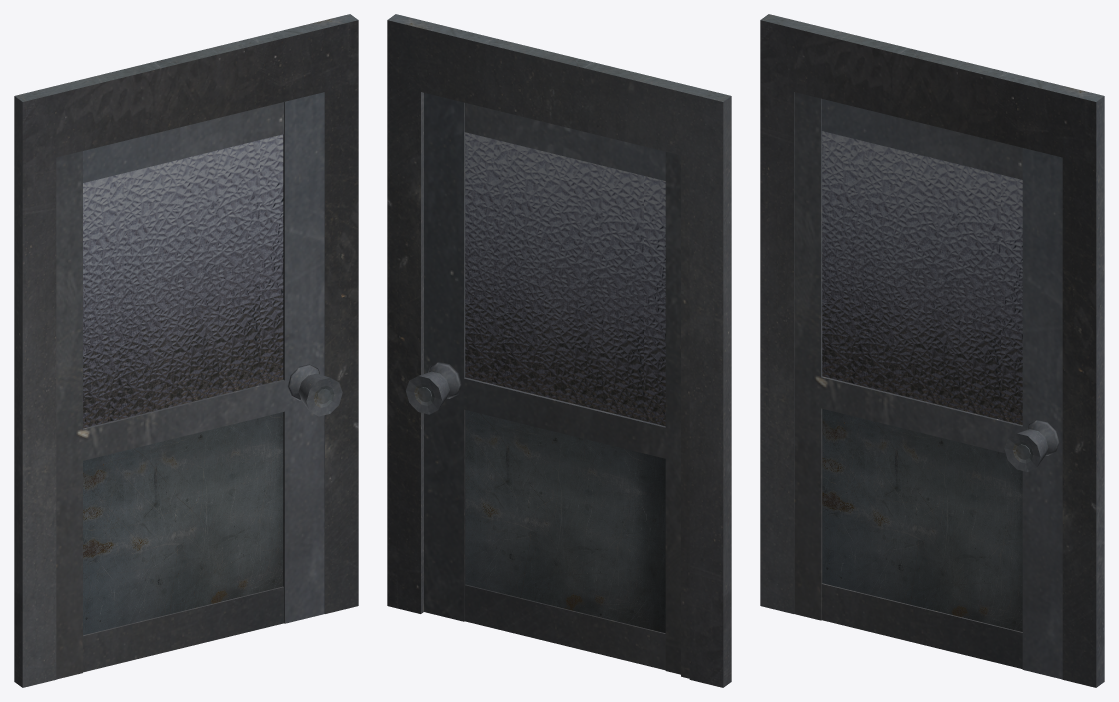
The model's file is BackDoor.fbx.
The picture shows the model from 3 angles, left to right: view 1: azimuth 30°, elevation 25°; view 2: azimuth 150°, elevation 25°; view 3: azimuth 330°, elevation 25°; orthographic projection.
Parts seen in each view (by area): view 1: DoorBase, Flame, DoorKnob2; view 2: DoorBase, Flame, DoorKnob1; view 3: DoorBase, Flame, DoorKnob2.
Boxes of the visible parts, x1,y1,x2,y2 form: DoorBase: (56,92,324,679); Flame: (14,14,358,687); DoorKnob2: (287,364,342,416); DoorBase: (424,93,680,674); Flame: (387,14,731,687); DoorKnob1: (406,361,461,414); DoorBase: (794,92,1062,679); Flame: (760,14,1104,687); DoorKnob2: (1004,420,1059,471).
Bounding box in the file's own units: 300 × 500 × 70.51.
